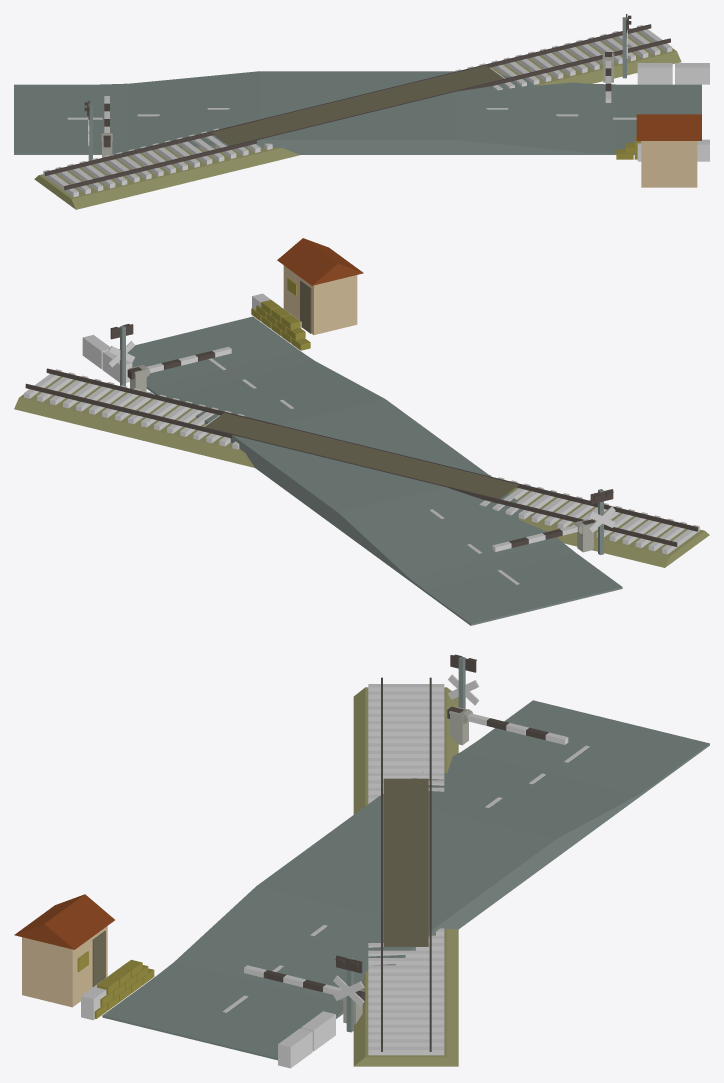
The model's file is SM_PasoNivel_30_v3_Militar_LOD0.fbx.
3 views of the same model, one above another, from view 1: azimuth 30°, elevation 25°; view 2: azimuth 150°, elevation 25°; view 3: azimuth 270°, elevation 25° (orthographic). The views are drawn at different scales.
Visible parts, largest first — view 1: SM_paso_nivel_kit_v18_LOD0, Barrera_1, Barrera_2; view 2: SM_paso_nivel_kit_v18_LOD0, Barrera_1, Barrera_2; view 3: SM_paso_nivel_kit_v18_LOD0, Barrera_2, Barrera_1.
Boxes of the visible parts, x1,y1,x2,y2 form: SM_paso_nivel_kit_v18_LOD0: (14, 14, 709, 209); Barrera_1: (604, 52, 613, 102); Barrera_2: (102, 96, 111, 147); SM_paso_nivel_kit_v18_LOD0: (14, 238, 709, 625); Barrera_1: (127, 346, 231, 379); Barrera_2: (492, 519, 595, 551); SM_paso_nivel_kit_v18_LOD0: (14, 654, 709, 1068); Barrera_2: (447, 706, 568, 744); Barrera_1: (244, 965, 365, 1000).
Size of the model in its own units: 30.16 by 3 by 23.85.
